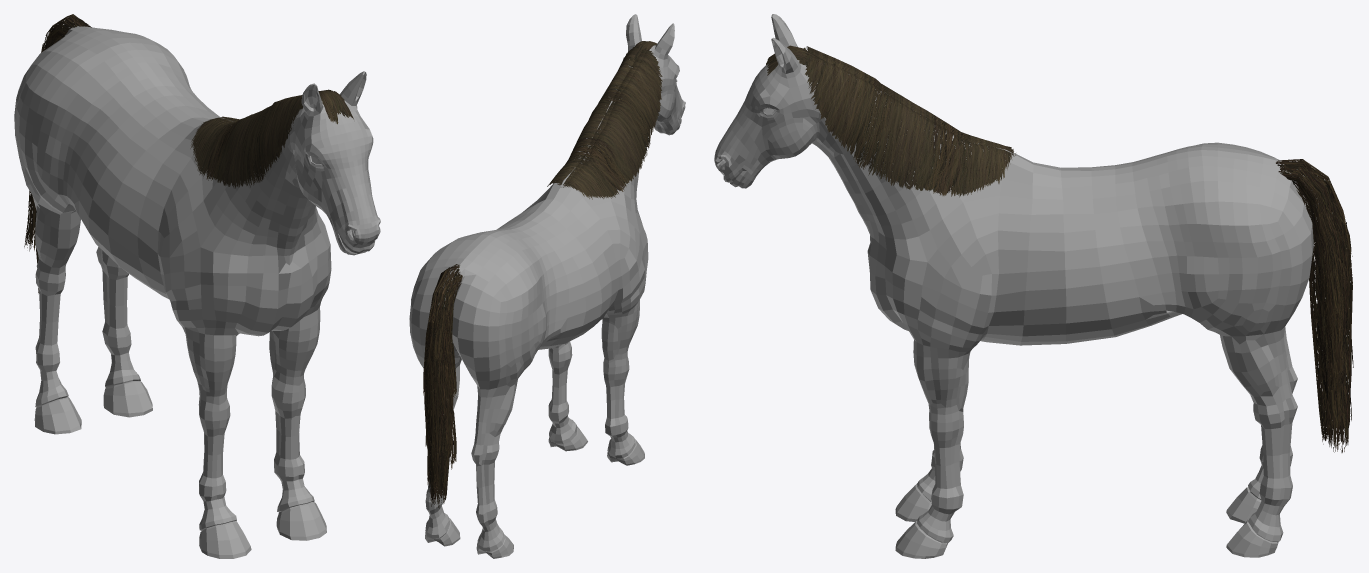
Rendered from horse-obj.obj.
The picture shows the model from 3 angles, left to right: view 1: azimuth 30°, elevation 25°; view 2: azimuth 150°, elevation 25°; view 3: azimuth 270°, elevation 25°; orthographic projection. The views are drawn at different scales.
Visible parts, largest first — view 1: horse___N, crest3__N, tail____N, crest2__N, crest___N, Object06N; view 2: horse___N, crest3__N, tail____N, crest1__N, Object02N, crest___N, crest2__N, Object07N, Object06N, Object05N; view 3: horse___N, crest1__N, tail____N, crest___N, Object08N, Object01N, crest2__N, crest3__N.
Part boxes in pixels (x1,y1,x2,y2): horse___N: (14, 26, 380, 558); crest3__N: (190, 95, 302, 188); tail____N: (32, 14, 91, 293); crest2__N: (206, 95, 302, 187); crest___N: (220, 89, 353, 123); Object06N: (24, 190, 36, 251); horse___N: (409, 14, 685, 558); crest3__N: (563, 47, 662, 199); tail____N: (423, 264, 462, 508); crest1__N: (547, 41, 656, 186); Object02N: (432, 269, 458, 503); crest___N: (547, 41, 656, 187); crest2__N: (563, 48, 657, 198); Object07N: (431, 309, 450, 364); Object06N: (448, 410, 456, 469); Object05N: (448, 343, 456, 404); horse___N: (714, 14, 1318, 558); crest1__N: (766, 52, 1015, 195); tail____N: (1276, 159, 1352, 452); crest___N: (766, 45, 1013, 197); Object08N: (1319, 355, 1351, 436); Object01N: (1321, 304, 1353, 386); crest2__N: (806, 48, 1013, 153); crest3__N: (804, 46, 1015, 154).
Bounding box in the file's own units: 27.76 × 84.98 × 97.38.
3 materials, 2 textured.
